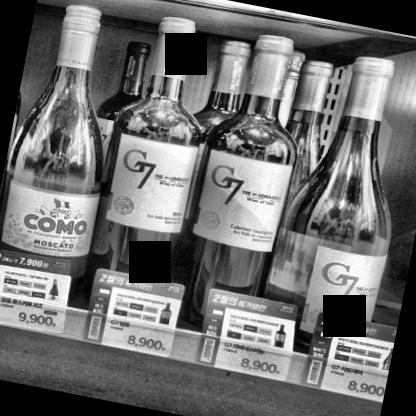G7: (189, 148, 291, 257)
